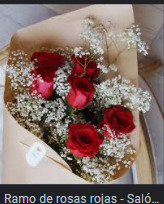RedRose: (67, 122, 105, 156), (101, 105, 136, 138), (67, 76, 94, 110)
